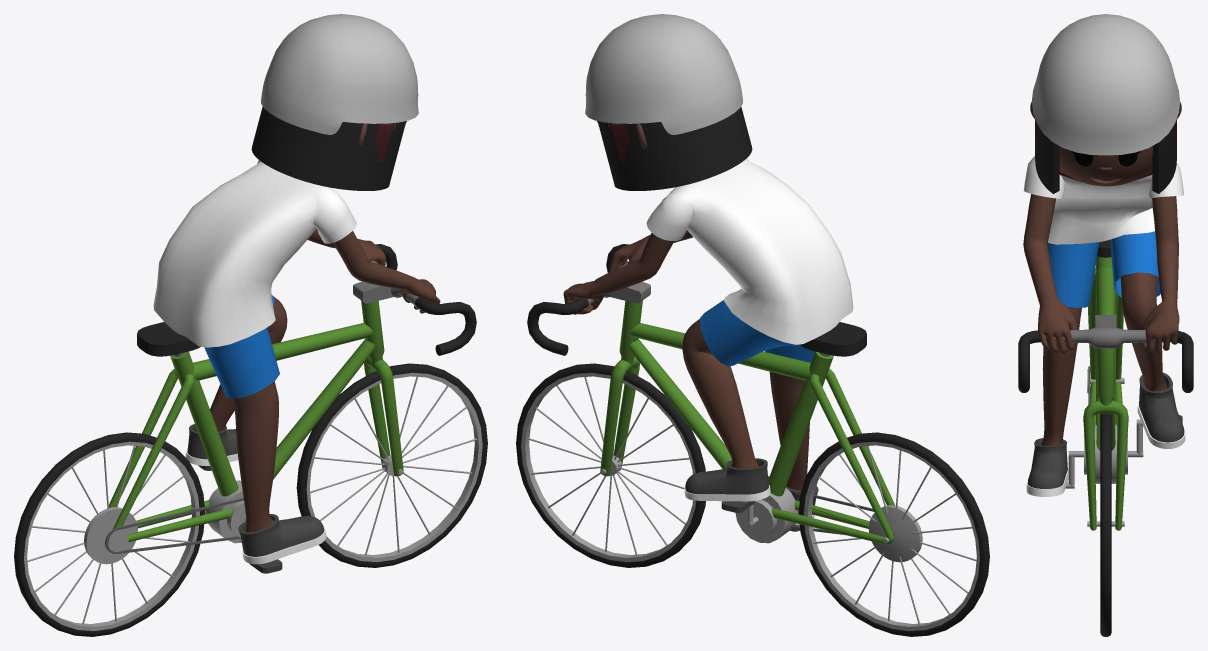
Rendered from woman_biking.glb.
The picture shows the model from 3 angles, left to right: view 1: azimuth 30°, elevation 25°; view 2: azimuth 150°, elevation 25°; view 3: azimuth 270°, elevation 25°; orthographic projection. The views are drawn at different scales.
Visible parts, largest first — view 1: Circle.177, Circle.190, Cube.303, Roundcube.476, Sphere.448, Sphere.447; view 2: Circle.177, Circle.190, Cube.303, Roundcube.476, Sphere.447; view 3: Circle.190, Cube.303, Circle.177, Roundcube.476, Sphere.447, Roundcube.475, Sphere.448, Circle.185, Circle.195.
Boxes of the visible parts, box(x1,y1,x2,y2) form: Circle.177: box(14, 244, 487, 636); Circle.190: box(153, 160, 440, 532); Cube.303: box(261, 14, 418, 134); Roundcube.476: box(251, 106, 406, 190); Sphere.448: box(238, 514, 326, 564); Sphere.447: box(185, 424, 238, 466); Circle.177: box(516, 244, 989, 636); Circle.190: box(563, 158, 853, 491); Cube.303: box(585, 14, 742, 134); Roundcube.476: box(597, 106, 752, 190); Sphere.447: box(684, 458, 770, 501); Circle.190: box(1023, 156, 1183, 445); Cube.303: box(1031, 14, 1180, 155); Circle.177: box(1018, 239, 1193, 636); Roundcube.476: box(1035, 125, 1176, 193); Sphere.447: box(1137, 372, 1185, 448); Roundcube.475: box(1059, 146, 1152, 186); Sphere.448: box(1026, 438, 1068, 496); Circle.185: box(1074, 152, 1137, 166); Circle.195: box(1035, 119, 1176, 182).
Size of the model in its own units: 2.05 by 2.31 by 0.6372.
Materials: 2 (2 with a texture image).
